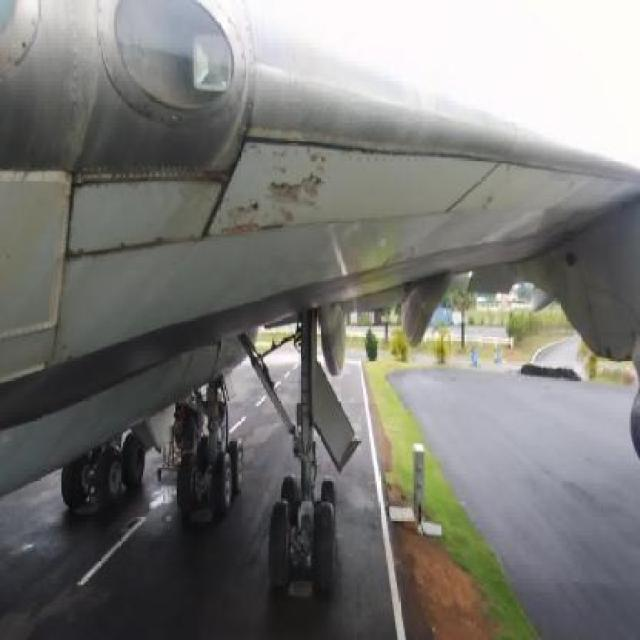Rust: (115, 156, 560, 258), (44, 152, 81, 274)
